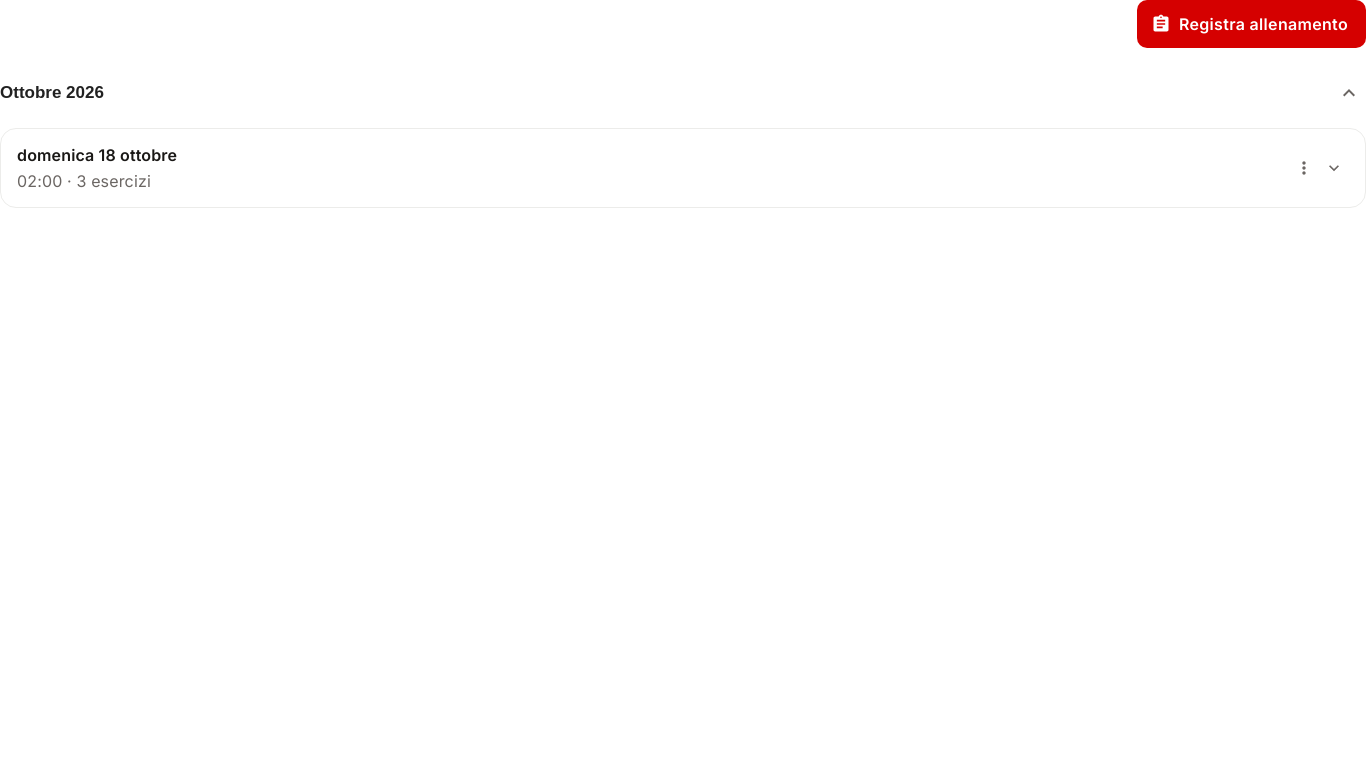
Test: azioni della riga su telefono › "Elimina allenamento" dal menu apre la conferma
Expected: the text "02:00 · 3 esercizi" is shown, 17,169 -> 151,193
Click the button named "Altre azioni" at (1304, 168), box 1289,153 -> 1319,183
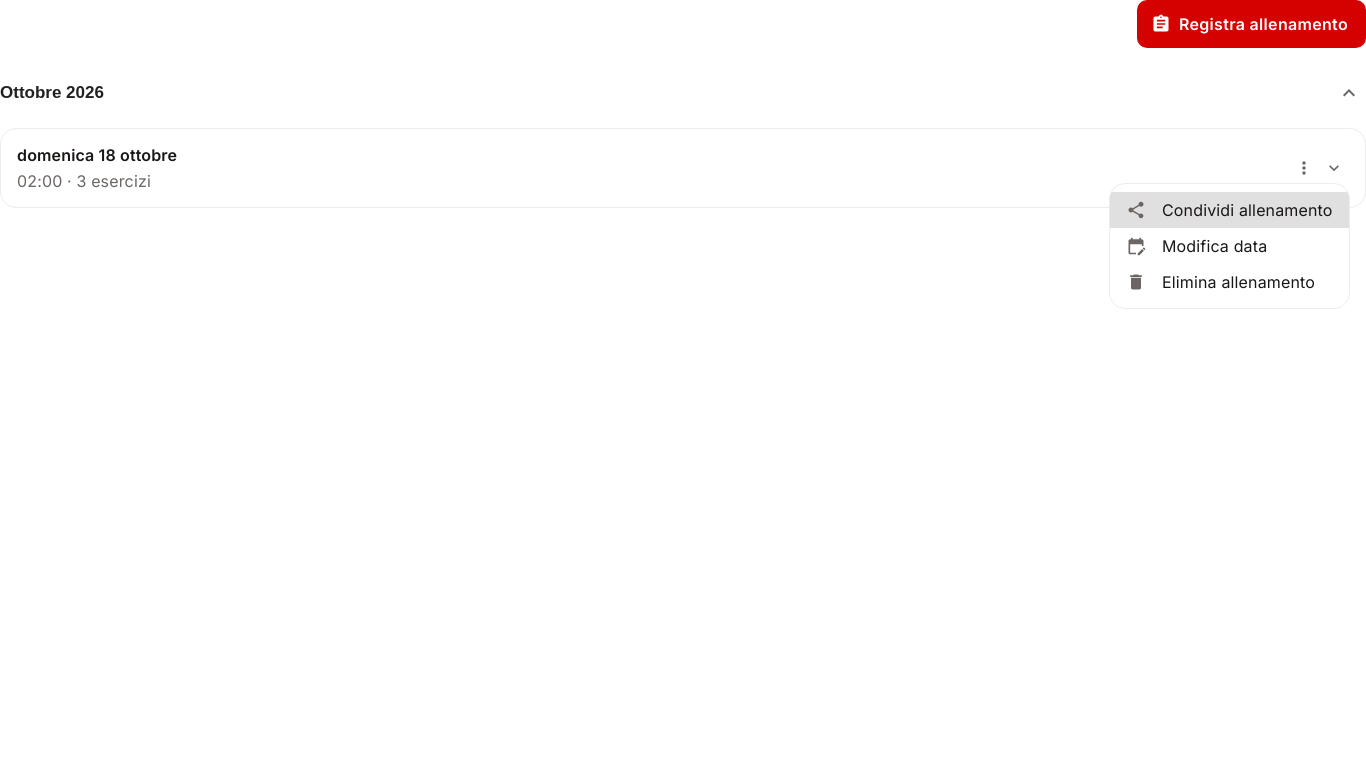
Click the menu item "Elimina allenamento" at (1220, 282), box 1126,272 -> 1315,292
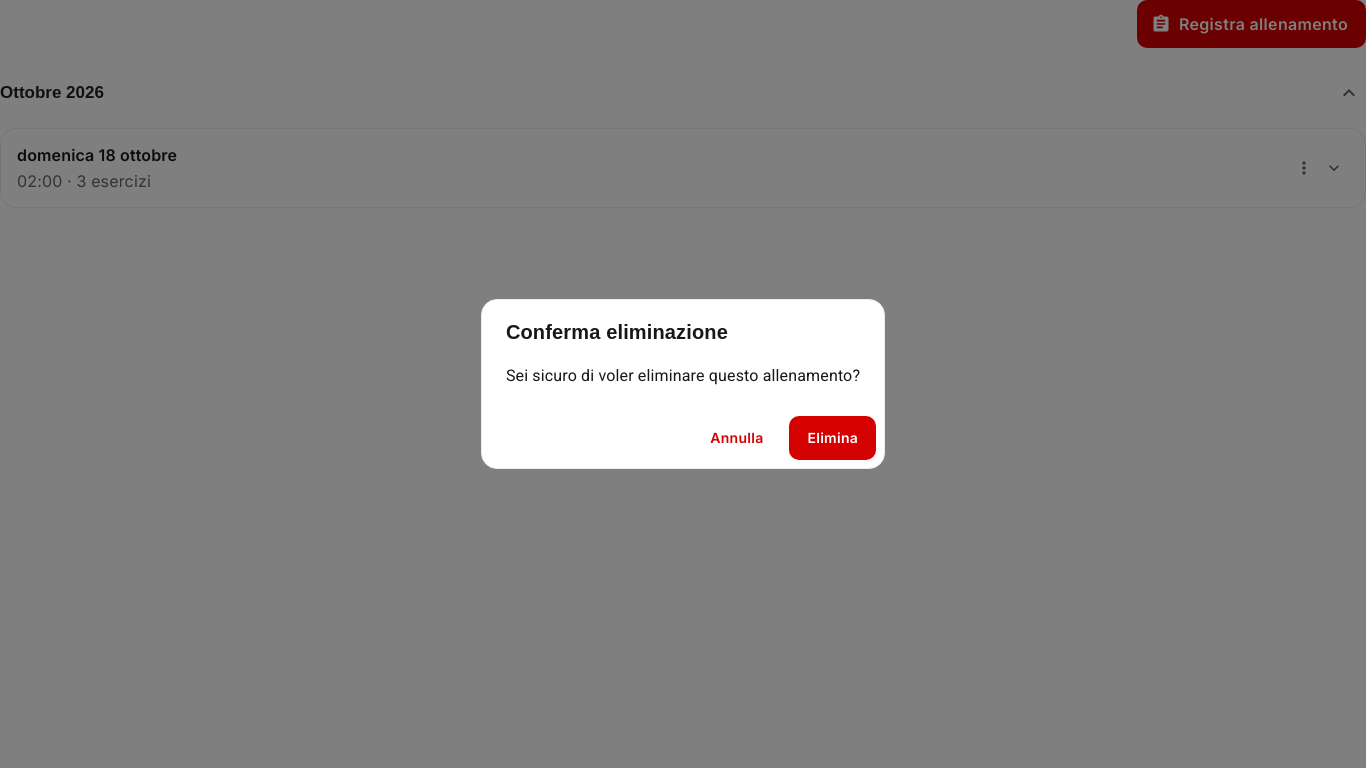
Now the heading "Conferma eliminazione" is shown, box 506,321 -> 728,343
Now the text "Sei sicuro di voler eliminare questo allenamento?" is shown, box 506,366 -> 860,385
